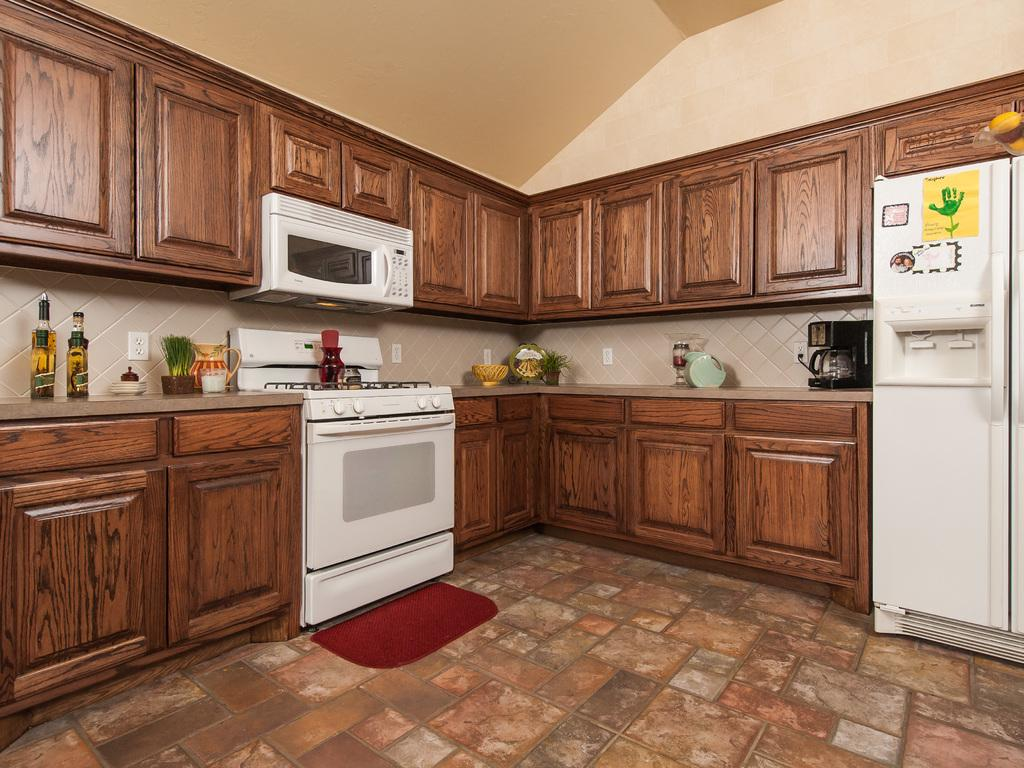cabinet_door: (7, 32, 136, 245), (7, 493, 152, 656), (141, 82, 247, 264), (176, 460, 294, 614), (738, 446, 862, 574), (760, 160, 854, 288), (630, 450, 724, 549), (667, 190, 748, 296), (550, 434, 632, 529), (414, 174, 470, 298), (598, 203, 656, 303), (270, 122, 340, 196), (478, 204, 520, 303), (539, 215, 584, 304), (458, 436, 494, 536), (346, 148, 404, 210), (498, 438, 538, 522)
handle: (982, 252, 1010, 424), (326, 422, 448, 442), (1014, 252, 1024, 420), (382, 250, 396, 286)
